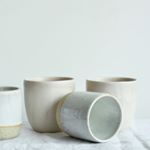cups: (53, 87, 124, 146), (22, 75, 77, 136)
